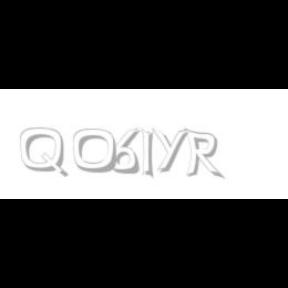6: (110, 128, 140, 176)
O: (72, 128, 118, 174)
Q: (20, 128, 66, 178)
R: (184, 128, 222, 180)
l: (142, 128, 158, 180)
y: (152, 128, 192, 172)
